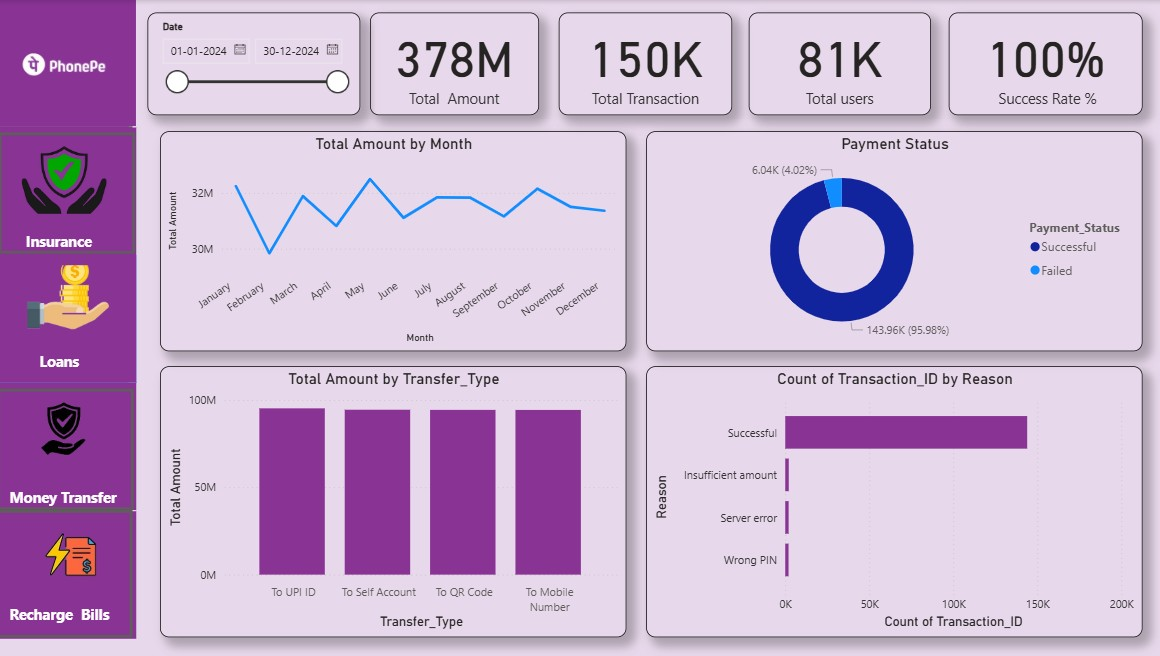

What the dashboard file says about the page in this screenshot:
{"tool":"powerbi","page":{"name":"Money Transfer","canvas":[1280,720],"ordinal":3},"visuals":[{"type":"shape","box":[3.1,0,152.3,138.6],"z":0,"group":"g2"},{"type":"card","fields":{"Values":["Sum(Money_Transfer.Amount)"]},"box":[411.7,13.7,185.2,112.5],"z":0},{"type":"shape","box":[0,560.9,155.1,140.2],"z":0,"group":"g3"},{"type":"card","fields":{"Values":["Money_Transfer.Total Transaction"]},"box":[618.9,13.7,190.7,112.5],"z":1000},{"type":"shape","box":[2.7,139.1,144.1,139.1],"z":1000,"group":"g2"},{"type":"image","box":[32.9,561.2,101.5,97.4],"z":1000,"group":"g3"},{"type":"card","fields":{"Values":["Money_Transfer.Total users"]},"box":[827.4,13.7,200.3,112.5],"z":2000},{"type":"shape","box":[2.7,278.1,144.1,139.1],"z":2000,"group":"g2"},{"type":"textbox","box":[11,658.6,130.4,42.5],"z":2000,"group":"g3"},{"type":"card","fields":{"Values":["Money_Transfer.Success Rate %"]},"box":[1047,13.7,212.7,112.5],"z":3000},{"type":"group","id":"g1","title":"Group 4","box":[0,140.2,155.1,421],"z":3000,"group":"g3"},{"type":"shape","box":[2.7,408,144.1,139.1],"z":3000,"group":"g2"},{"type":"lineChart","fields":{"Category":["Money_Transfer.Date.Variation.Date Hierarchy.Month"],"Y":["Money_Transfer.Total Amount"]},"box":[181.1,144.1,511.8,241.5],"z":4000},{"type":"actionButton","box":[4.1,145.4,149.6,133.1],"z":4000,"group":"g3"},{"type":"shape","box":[2.7,547.1,144.1,139.1],"z":4000,"group":"g2"},{"type":"image","box":[20.5,133.5,108.4,94.7],"z":5000,"group":"g2"},{"type":"actionButton","box":[1.4,139.2,149.6,133.1],"z":5000},{"type":"actionButton","box":[2.7,142.7,149.6,133.1],"z":6000},{"type":"image","box":[26,543.8,97.4,96.1],"z":6000,"group":"g2"},{"type":"donutChart","title":"Payment Status","fields":{"Category":["Money_Transfer.Payment_Status"],"Y":["CountNonNull(Money_Transfer.Transaction_ID)"]},"box":[714.9,144.1,544.8,241.5],"z":7000},{"type":"columnChart","fields":{"Category":["Money_Transfer.Transfer_Type"],"Y":["Money_Transfer.Total Amount"]},"box":[181.1,402.1,511.8,297.8],"z":8000},{"type":"shape","box":[0,140.2,155.1,140.2],"z":9000,"group":"g4"},{"type":"clusteredBarChart","fields":{"Category":["Money_Transfer.Reason"],"Y":["CountNonNull(Money_Transfer.Transaction_ID)"]},"box":[714.9,402.1,544.8,297.8],"z":9000},{"type":"slicer","fields":{"Values":["Money_Transfer.Date"]},"box":[167.4,13.7,233.3,112.5],"z":10000},{"type":"shape","box":[0,280.4,155.1,140.2],"z":10000,"group":"g5"},{"type":"group","id":"g2","title":"Group 1","box":[2.7,0,152.7,686.1],"z":11000},{"type":"shape","box":[0,420.7,155.1,140.2],"z":11000,"group":"g1"},{"type":"image","box":[0,1.4,150.9,138.6],"z":12000},{"type":"image","box":[24.7,142.7,102.9,109.8],"z":13000,"group":"g4"},{"type":"image","box":[27.4,292.3,98.8,94.7],"z":13000},{"type":"image","box":[24.7,421.2,101.5,98.8],"z":14000,"group":"g1"},{"type":"image","box":[17.8,424,107,102.9],"z":14000},{"type":"textbox","box":[23.3,258,96.1,32.9],"z":15000},{"type":"image","box":[26.1,279.9,108.4,100.2],"z":15000,"group":"g5"},{"type":"textbox","box":[39.8,385.6,67.2,31.6],"z":16000},{"type":"textbox","box":[13.7,517.3,126.2,39.8],"z":17000},{"type":"textbox","box":[43.9,380.1,65.9,31.6],"z":18000,"group":"g5"},{"type":"textbox","box":[0,653.2,144.1,46.7],"z":18000},{"type":"group","id":"g3","title":"Group 5","box":[0,140.2,155.1,561],"z":19000},{"type":"textbox","box":[28.8,248.3,97.4,31.6],"z":19000,"group":"g4"},{"type":"actionButton","box":[2.7,426.8,149.6,133.1],"z":20000},{"type":"textbox","box":[11,529.6,140,31.6],"z":20000,"group":"g1"},{"type":"actionButton","box":[1.4,559.9,149.6,140],"z":21000},{"type":"group","id":"g4","title":"Group 2","box":[0,140.2,155.1,140.2],"z":21002,"group":"g5"},{"type":"group","id":"g5","title":"Group 3","box":[0,140.2,155.1,280.5],"z":21003,"group":"g1"}]}

Visuals, with their boxes in screenshot pixels (x1, y1, x2, y2), scaled from the page's 1280x720 canvas onto the 1160x656 screenshot:
shape: {"x1": 3, "y1": 0, "x2": 141, "y2": 126}
card - Sum(Money_Transfer.Amount): {"x1": 373, "y1": 12, "x2": 541, "y2": 115}
shape: {"x1": 0, "y1": 511, "x2": 141, "y2": 639}
card - Money_Transfer.Total Transaction: {"x1": 561, "y1": 12, "x2": 734, "y2": 115}
shape: {"x1": 2, "y1": 127, "x2": 133, "y2": 253}
image: {"x1": 30, "y1": 511, "x2": 122, "y2": 600}
card - Money_Transfer.Total users: {"x1": 750, "y1": 12, "x2": 931, "y2": 115}
shape: {"x1": 2, "y1": 253, "x2": 133, "y2": 380}
textbox: {"x1": 10, "y1": 600, "x2": 128, "y2": 639}
card - Money_Transfer.Success Rate %: {"x1": 949, "y1": 12, "x2": 1142, "y2": 115}
"Group 4" group: {"x1": 0, "y1": 128, "x2": 141, "y2": 511}
shape: {"x1": 2, "y1": 372, "x2": 133, "y2": 498}
lineChart - Money_Transfer.Date.Variation.Date Hierarchy.Month x Money_Transfer.Total Amount: {"x1": 164, "y1": 131, "x2": 628, "y2": 351}
actionButton: {"x1": 4, "y1": 132, "x2": 139, "y2": 254}
shape: {"x1": 2, "y1": 498, "x2": 133, "y2": 625}
image: {"x1": 19, "y1": 122, "x2": 117, "y2": 208}
actionButton: {"x1": 1, "y1": 127, "x2": 137, "y2": 248}
actionButton: {"x1": 2, "y1": 130, "x2": 138, "y2": 251}
image: {"x1": 24, "y1": 495, "x2": 112, "y2": 583}
"Payment Status" donutChart: {"x1": 648, "y1": 131, "x2": 1142, "y2": 351}
columnChart - Money_Transfer.Transfer_Type x Money_Transfer.Total Amount: {"x1": 164, "y1": 366, "x2": 628, "y2": 638}
shape: {"x1": 0, "y1": 128, "x2": 141, "y2": 255}
clusteredBarChart - Money_Transfer.Reason x CountNonNull(Money_Transfer.Transaction_ID): {"x1": 648, "y1": 366, "x2": 1142, "y2": 638}
slicer - Money_Transfer.Date: {"x1": 152, "y1": 12, "x2": 363, "y2": 115}
shape: {"x1": 0, "y1": 255, "x2": 141, "y2": 383}
"Group 1" group: {"x1": 2, "y1": 0, "x2": 141, "y2": 625}
shape: {"x1": 0, "y1": 383, "x2": 141, "y2": 511}
image: {"x1": 0, "y1": 1, "x2": 137, "y2": 128}
image: {"x1": 22, "y1": 130, "x2": 116, "y2": 230}
image: {"x1": 25, "y1": 266, "x2": 114, "y2": 353}
image: {"x1": 22, "y1": 384, "x2": 114, "y2": 474}
image: {"x1": 16, "y1": 386, "x2": 113, "y2": 480}
textbox: {"x1": 21, "y1": 235, "x2": 108, "y2": 265}
image: {"x1": 24, "y1": 255, "x2": 122, "y2": 346}
textbox: {"x1": 36, "y1": 351, "x2": 97, "y2": 380}
textbox: {"x1": 12, "y1": 471, "x2": 127, "y2": 508}
textbox: {"x1": 40, "y1": 346, "x2": 100, "y2": 375}
textbox: {"x1": 0, "y1": 595, "x2": 131, "y2": 638}
"Group 5" group: {"x1": 0, "y1": 128, "x2": 141, "y2": 639}
textbox: {"x1": 26, "y1": 226, "x2": 114, "y2": 255}
actionButton: {"x1": 2, "y1": 389, "x2": 138, "y2": 510}
textbox: {"x1": 10, "y1": 483, "x2": 137, "y2": 511}
actionButton: {"x1": 1, "y1": 510, "x2": 137, "y2": 638}
"Group 2" group: {"x1": 0, "y1": 128, "x2": 141, "y2": 255}
"Group 3" group: {"x1": 0, "y1": 128, "x2": 141, "y2": 383}
